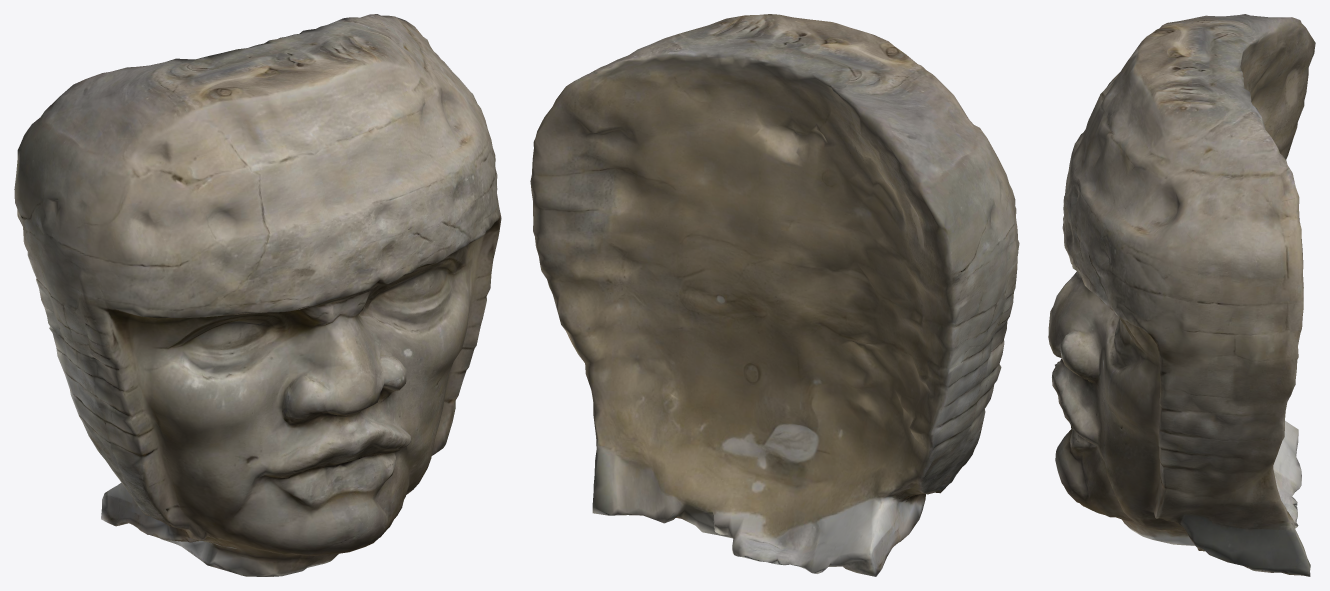
The model's file is Cabeza_Colosal_n3.glb.
3 views of the same model, side by side, from view 1: azimuth 30°, elevation 25°; view 2: azimuth 150°, elevation 25°; view 3: azimuth 270°, elevation 25° (orthographic). The views are drawn at different scales.
Parts seen in each view (by area): view 1: Mesh1.0; view 2: Mesh1.0; view 3: Mesh1.0.
Part boxes in pixels (bbox=[...]): Mesh1.0: bbox=[14, 14, 501, 576]; Mesh1.0: bbox=[530, 14, 1019, 576]; Mesh1.0: bbox=[1048, 14, 1315, 576].
Size of the model in its own units: 0.4798 by 0.5 by 0.2639.
Materials: 1 (1 with a texture image).
